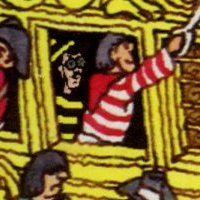odlaw: (56, 39, 84, 90)
